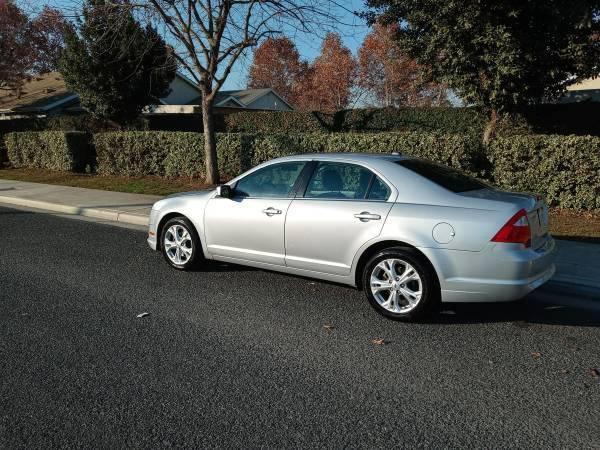Front_Bumper: (146, 223, 158, 252)
Front_Fender: (151, 197, 214, 259)
Front_Left_Door: (204, 198, 292, 275)
Front_Left_Window: (215, 161, 315, 198)
Left_Taillight: (489, 209, 530, 248)
Rear_Bumper: (417, 238, 554, 303)
Rear_Fender: (378, 195, 521, 250)
Rear_Left_Door: (285, 200, 394, 288)
Rear_Left_Window: (294, 160, 391, 202)
Rear_Windshield: (395, 160, 493, 195)
Roof: (214, 150, 458, 206)
Tailgate: (457, 188, 550, 249)
Wheel: (363, 249, 431, 321), (162, 218, 200, 269)
